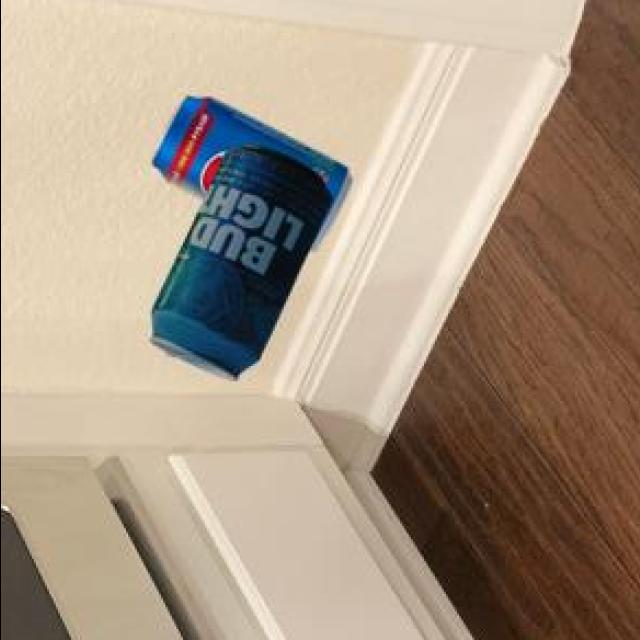logam: (146, 148, 328, 385), (148, 100, 347, 253)
